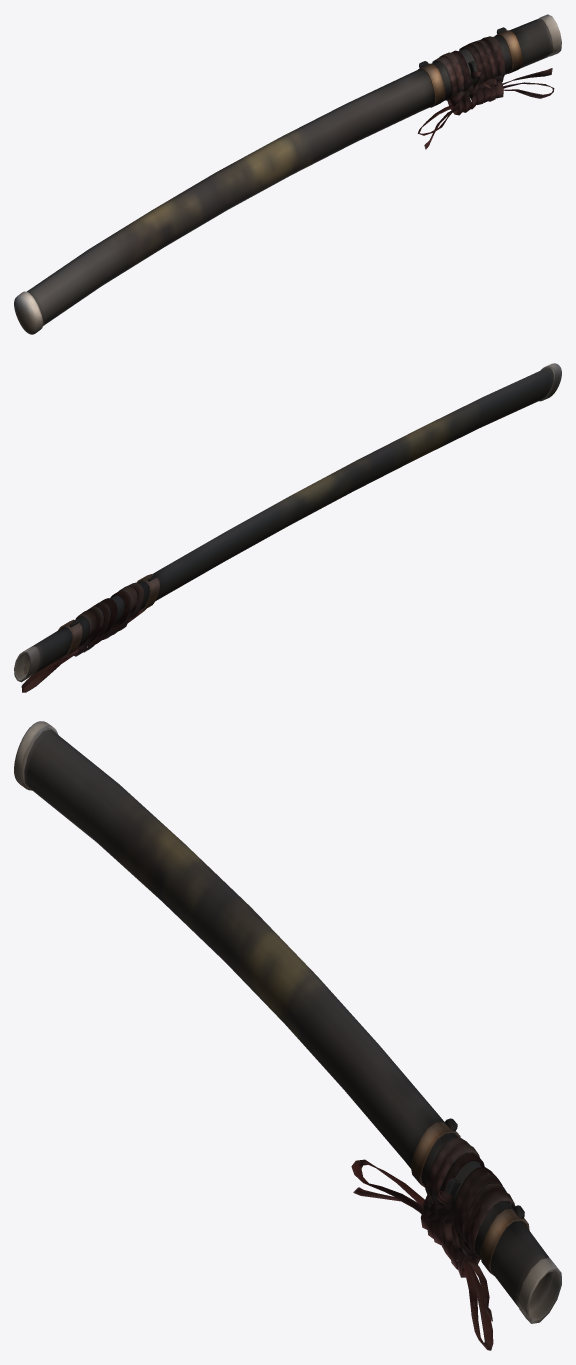
The model's file is Saya1.gltf.
3 views of the same model, one above another, from view 1: azimuth 30°, elevation 25°; view 2: azimuth 210°, elevation 25°; view 3: azimuth 270°, elevation 25° (orthographic). The views are drawn at different scales.
Parts seen in each view (by area): view 1: Saya_Body; view 2: Saya_Body; view 3: Saya_Body.
Part boxes in pixels (x1,y1,x2,y2): Saya_Body: (14, 14, 561, 334); Saya_Body: (14, 363, 561, 692); Saya_Body: (14, 721, 561, 1350).
Bounding box in the file's own units: 0.9758 × 0.1034 × 0.4125.
1 material, 1 textured.
